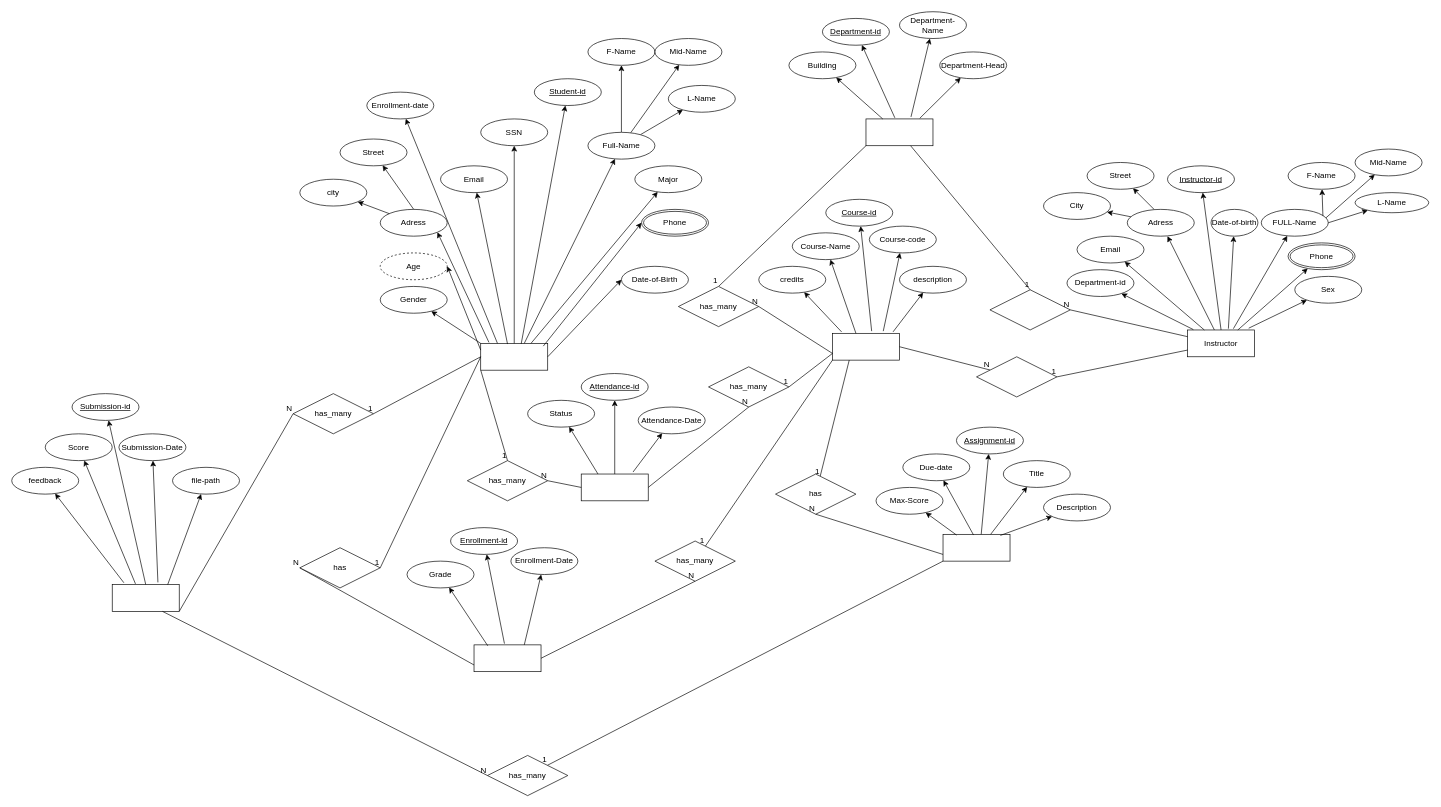
This 1441x807 diagram has some shape labels left out. The centre of each missing label's shape, as x and y in pixels:
"Assignment" belongs at (976,547).
"Attendance" belongs at (614,487).
"belongs_to" belongs at (1029,309).
"Courses" belongs at (865,346).
"Department" belongs at (899,132).
"Enrollment" belongs at (507,658).
"Student" belongs at (514,356).
"Submission" belongs at (145,597).
"teach" belongs at (1016,376).
